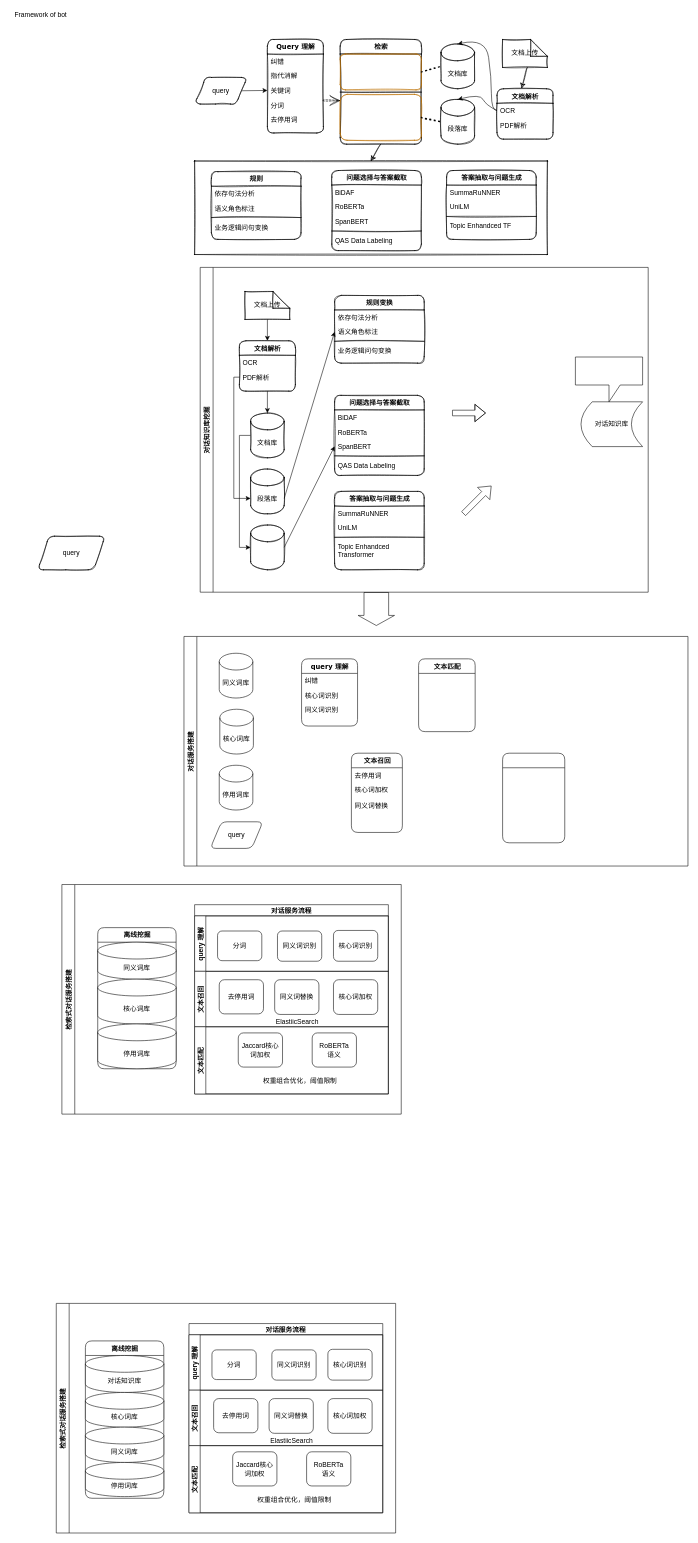
This 698x1543 diagram has some shape labels left out. The centre of each missing label's shape, as x and y in pixels:
"question answer" goes at pixel 609 379.
"关键句召回 ES query subtitle ES query paragraph LDA + KL Faiss" goes at pixel 380 117.
"文档召回 全文匹配 关键句匹配" goes at pixel 380 71.
"爬虫库" goes at pixel 267 547.
"重排序" goes at pixel 533 798.
